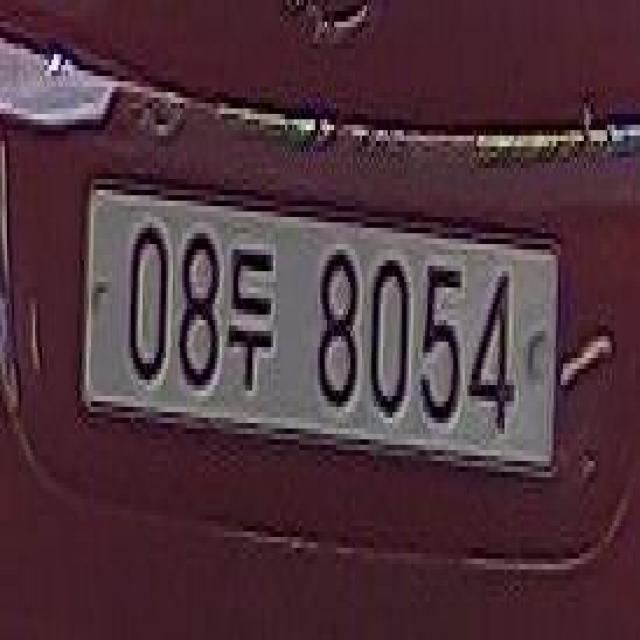illegal_plate: (82, 168, 558, 497)
